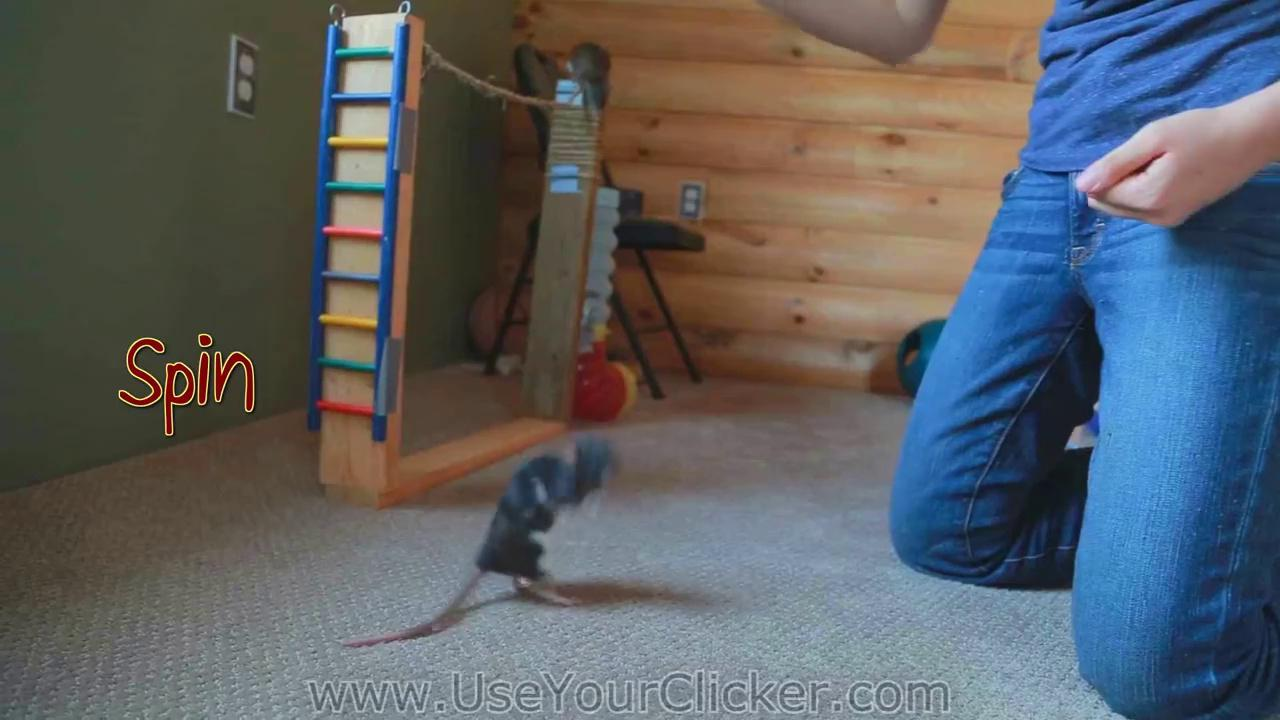rat: (339, 435, 612, 646)
